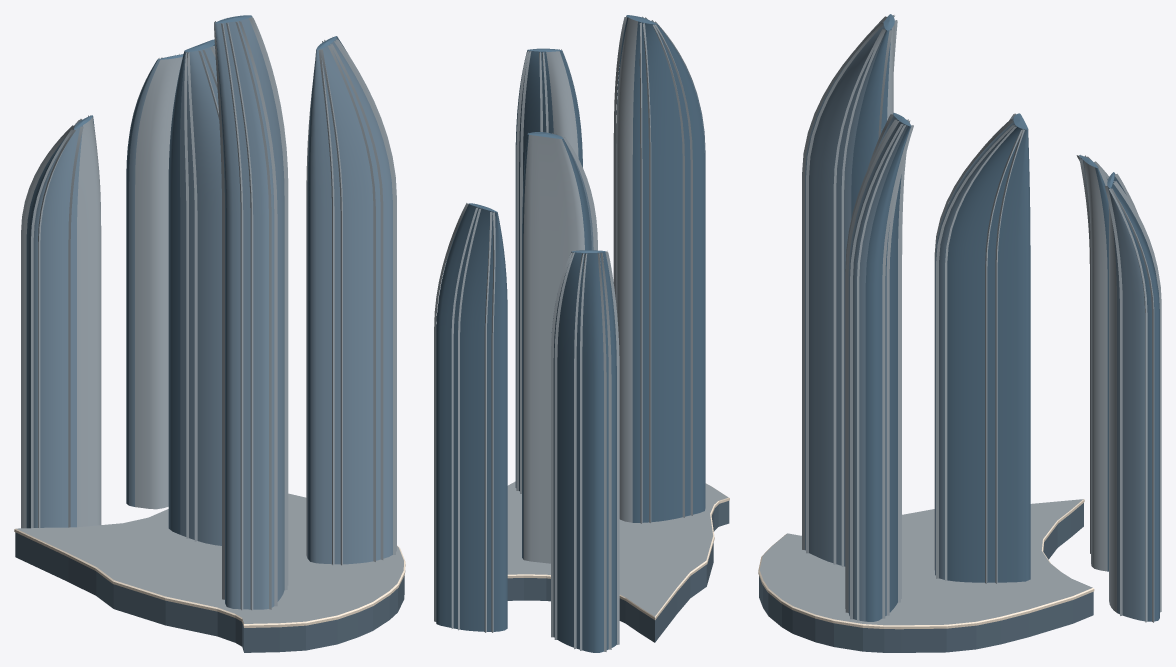
Rendered from abu-dhabi-etihad-towers.glb.
3 renders of one model, left to right at view 1: azimuth 30°, elevation 25°; view 2: azimuth 150°, elevation 25°; view 3: azimuth 270°, elevation 25°, orthographic. The views are drawn at different scales.
Visible parts, largest first — view 1: Etihad Towers; view 2: Etihad Towers; view 3: Etihad Towers.
Part boxes in pixels (x1,y1,x2,y2): Etihad Towers: (14,15,405,652); Etihad Towers: (434,15,729,652); Etihad Towers: (758,14,1161,652).
Bounding box in the file's own units: 149 × 306 × 200.
